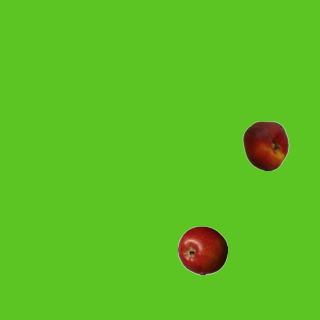Apple Braeburn: (177, 225, 227, 275)
Nectarine Flat: (240, 120, 290, 170)
